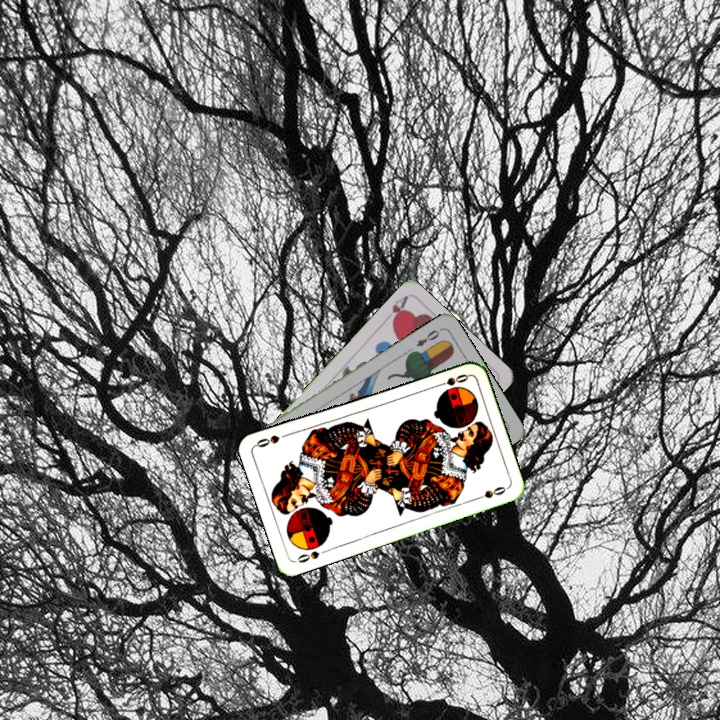EO: (412, 324, 444, 349)
HA: (379, 292, 410, 327)
SO: (431, 370, 471, 390), (293, 547, 322, 565)
